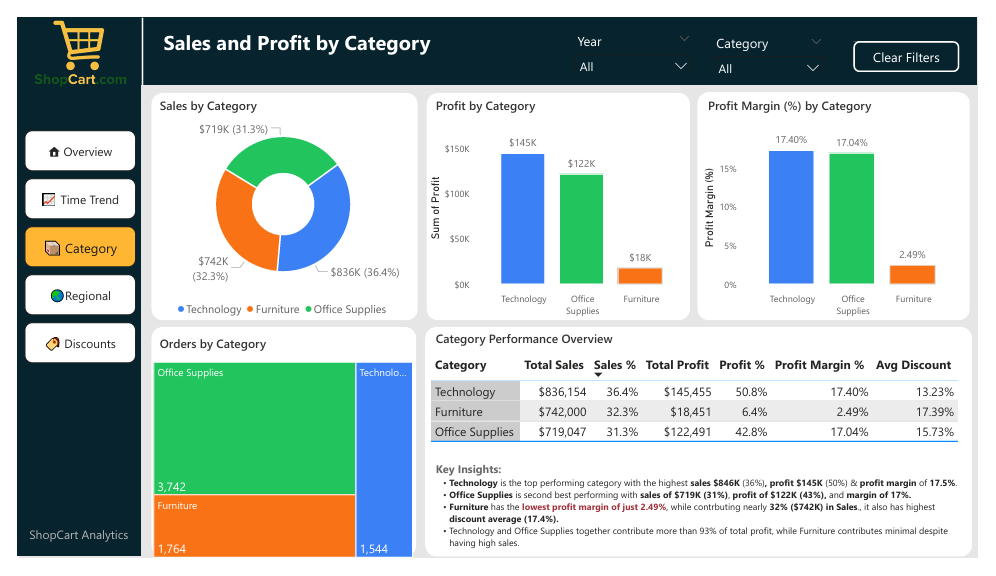

What the dashboard file says about the page in this screenshot:
{"tool":"powerbi","page":{"name":"📦 Category","canvas":[1280,720],"ordinal":2},"visuals":[{"type":"shape","box":[1.5,1.5,1278.5,718.5],"z":0},{"type":"shape","box":[0,0,165.2,718.2],"z":1000},{"type":"shape","box":[143.3,0,1135.8,90],"z":2000},{"type":"image","box":[1.5,0,163.6,97],"z":3000},{"type":"textbox","box":[153.7,9,435.8,56.7],"z":4000},{"type":"shape","box":[177.6,100,355.2,303],"z":5000},{"type":"shape","box":[543.3,411.9,728.4,306],"z":6000},{"type":"shape","box":[544.8,100,350.7,303],"z":7000},{"type":"shape","box":[177.6,411.9,353.7,306],"z":8000},{"type":"columnChart","fields":{"Category":["shopcart.Category"],"Y":["Sum(shopcart.Profit)"]},"box":[543.3,137.3,355.2,264.2],"z":9000},{"type":"shape","box":[906,98.5,362.7,304.5],"z":10000},{"type":"textbox","box":[183.6,101.5,244.8,35.8],"z":11000},{"type":"pieChart","fields":{"Category":["shopcart.Category"],"Y":["Sum(shopcart.Sales)"]},"box":[176.1,119.4,355.2,283.6],"z":12000},{"type":"clusteredColumnChart","fields":{"Category":["shopcart.Category"],"Y":["shopcart.Profit Margin"]},"box":[909,137.3,355.2,264.2],"z":13000},{"type":"textbox","box":[552.2,101.5,244.8,35.8],"z":14000},{"type":"textbox","box":[914.9,101.5,244.8,35.8],"z":15000},{"type":"tableEx","fields":{"Values":["shopcart.Category","shopcart.Total Sale","shopcart.Sales % cat","shopcart.Total Profit","shopcart.Profit % cat","shopcart.Profit Margin","Avg(shopcart.Discount)"]},"box":[545.1,443.8,724.4,142.5],"z":16000},{"type":"textbox","box":[552.2,411.9,294,31.3],"z":17000},{"type":"treemap","fields":{"Group":["shopcart.Category"],"Values":["Count(shopcart.Order ID)"]},"box":[176.1,453.7,355.2,265.7],"z":18000},{"type":"textbox","box":[183.6,417.9,244.8,35.8],"z":19000},{"type":"pageNavigator","box":[8.8,149.9,148.4,314.4],"z":20000},{"type":"slicer","fields":{"Values":["shopcart.Order Date.Variation.Date Hierarchy.Year"]},"box":[733.2,13.2,174.9,60.2],"z":21000},{"type":"slicer","fields":{"Values":["shopcart.Category"]},"box":[918.4,16.2,166,60.2],"z":22000},{"type":"shape","box":[135.2,0,61.7,89.6],"z":23000},{"type":"textbox","box":[10.3,673,145.5,45.6],"z":24000},{"type":"actionButton","box":[1113.8,30.9,141.1,41.1],"z":25000},{"type":"textbox","box":[552.5,586.3,712.7,132.2],"z":26000}]}

Visuals, with their boxes in screenshot pixels (x1, y1, x2, y2), scaled from the page's 1280x720 canvas onto the 996x576 screenshot:
shape: (left=1, top=1, right=995, bottom=575)
shape: (left=0, top=0, right=129, bottom=575)
shape: (left=112, top=0, right=995, bottom=72)
image: (left=1, top=0, right=128, bottom=78)
textbox: (left=120, top=7, right=459, bottom=53)
shape: (left=138, top=80, right=415, bottom=322)
shape: (left=423, top=330, right=990, bottom=574)
shape: (left=424, top=80, right=697, bottom=322)
shape: (left=138, top=330, right=413, bottom=574)
columnChart - shopcart.Category x Sum(shopcart.Profit): (left=423, top=110, right=699, bottom=321)
shape: (left=705, top=79, right=987, bottom=322)
textbox: (left=143, top=81, right=333, bottom=110)
pieChart - shopcart.Category x Sum(shopcart.Sales): (left=137, top=96, right=413, bottom=322)
clusteredColumnChart - shopcart.Category x shopcart.Profit Margin: (left=707, top=110, right=984, bottom=321)
textbox: (left=430, top=81, right=620, bottom=110)
textbox: (left=712, top=81, right=902, bottom=110)
tableEx - shopcart.Category x shopcart.Total Sale: (left=424, top=355, right=988, bottom=469)
textbox: (left=430, top=330, right=658, bottom=355)
treemap - shopcart.Category x Count(shopcart.Order ID): (left=137, top=363, right=413, bottom=575)
textbox: (left=143, top=334, right=333, bottom=363)
pageNavigator: (left=7, top=120, right=122, bottom=371)
slicer - shopcart.Order Date.Variation.Date Hierarchy.Year: (left=571, top=11, right=707, bottom=59)
slicer - shopcart.Category: (left=715, top=13, right=844, bottom=61)
shape: (left=105, top=0, right=153, bottom=72)
textbox: (left=8, top=538, right=121, bottom=575)
actionButton: (left=867, top=25, right=976, bottom=58)
textbox: (left=430, top=469, right=984, bottom=575)
